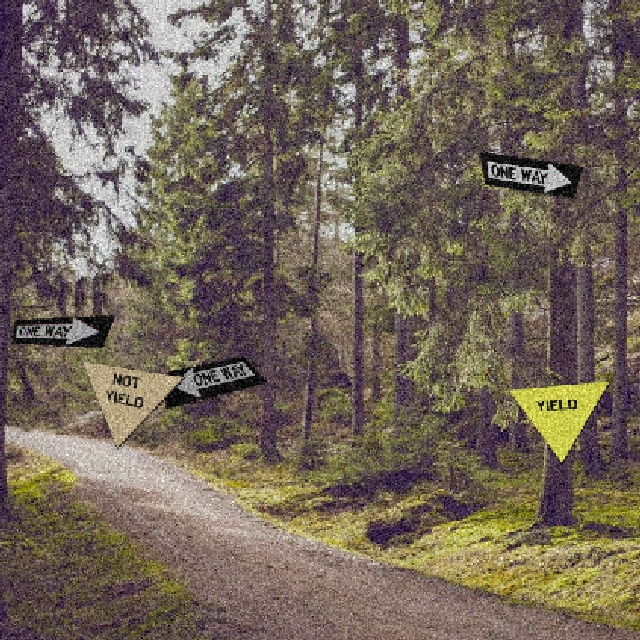NOT_YIELD: (80, 359, 184, 448)
ONE_WAY_ left: (163, 354, 267, 408)
ONE_WAY_ right: (478, 150, 582, 197), (10, 313, 114, 347)
YIELD: (506, 379, 610, 463)
